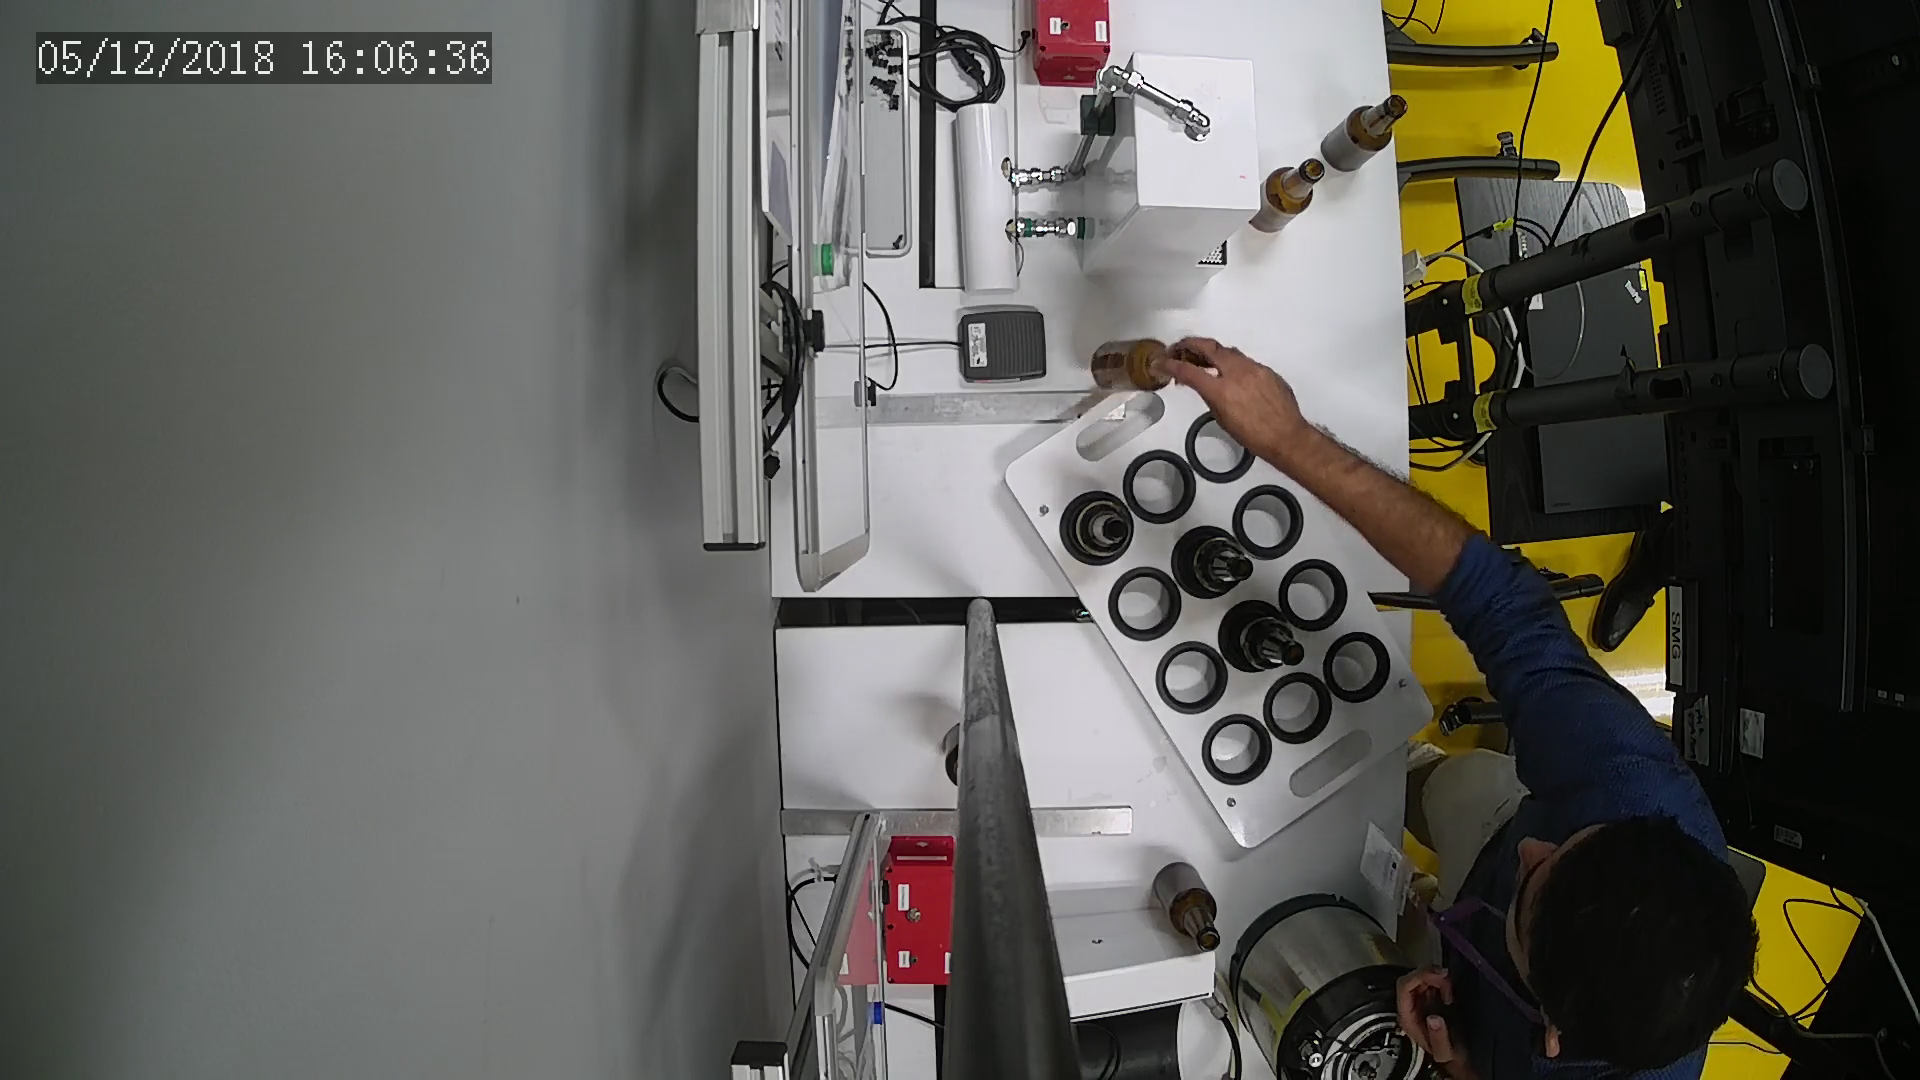filled_bottle: (1222, 599, 1305, 678), (1179, 524, 1254, 597), (1062, 493, 1133, 564)
trolley: (1004, 349, 1439, 858)
unfilled_bottle: (1149, 858, 1222, 955), (1320, 95, 1408, 174), (1251, 160, 1324, 233)
